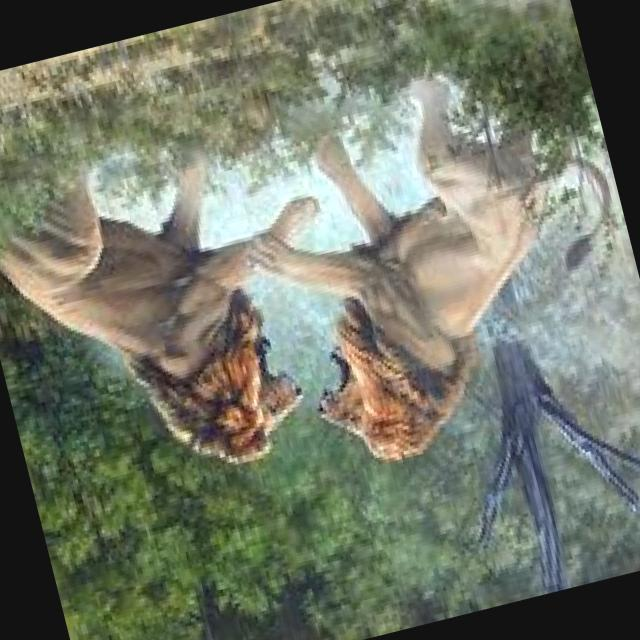lions: (237, 0, 640, 557), (0, 53, 335, 584)
